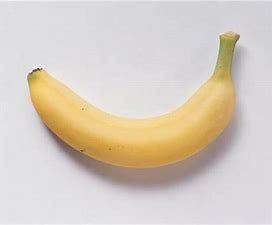fruit_banana: (21, 28, 242, 169)
